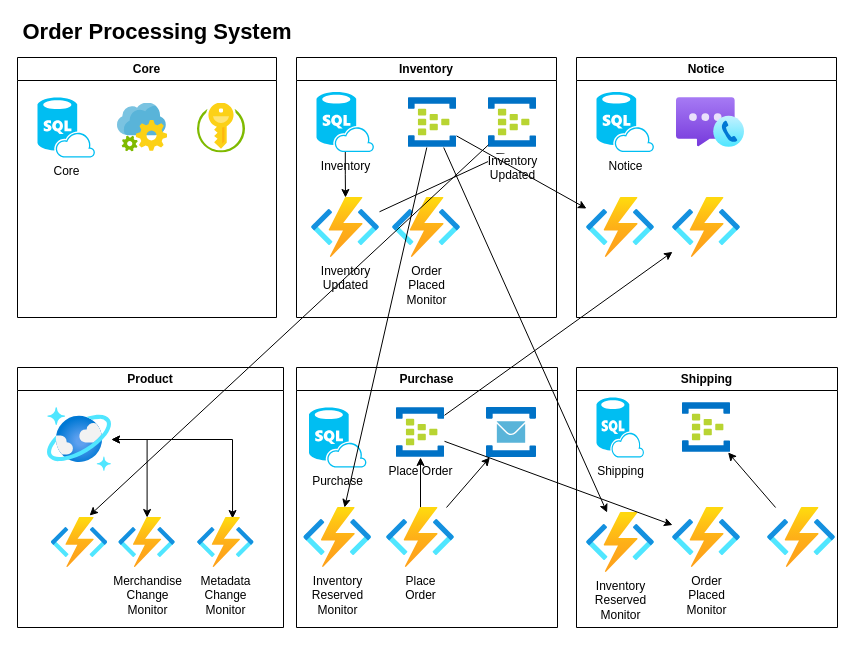
The diagram is 855 pixels wide and 645 high, and some of its shapes have lost their labels. Here are the shapes that lost their labels. From the top down, the box of each, then its label:
(117, 102, 167, 152): App Config
(197, 102, 245, 152): Key Vault
(408, 97, 456, 147): Inventory Reserved
(676, 97, 744, 147): ACS
(586, 197, 654, 257): Invnetory Reserved Monitor
(672, 197, 740, 257): Place Order Monitor
(47, 407, 111, 471): Product Database
(486, 407, 536, 457): Order Placed
(682, 402, 730, 452): Order Shipped
(51, 517, 107, 567): Inventory Updated Monitor
(767, 507, 835, 567): Update Shipping Status
